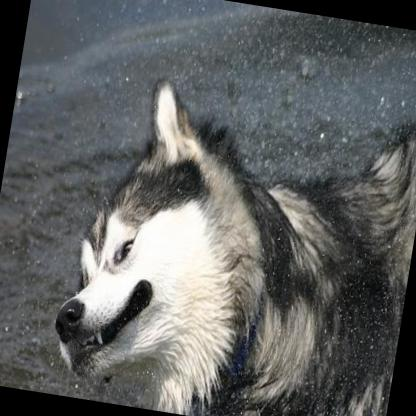malamute: (41, 61, 416, 416)
